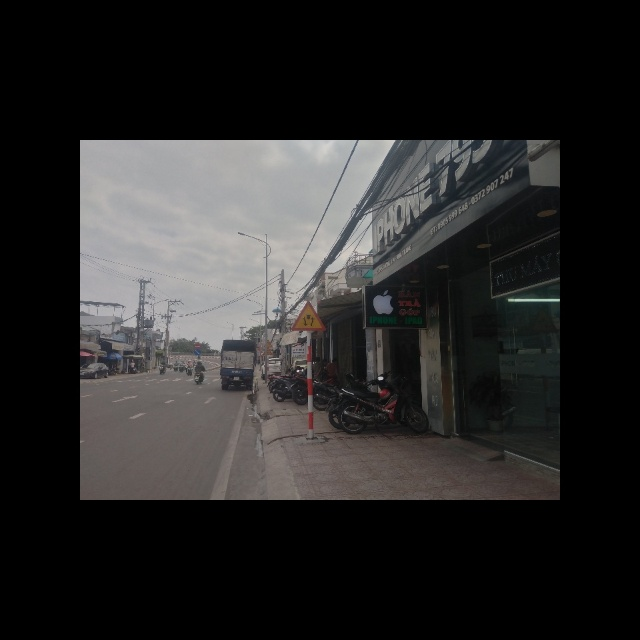Đường đôi: (291, 300, 326, 332)
